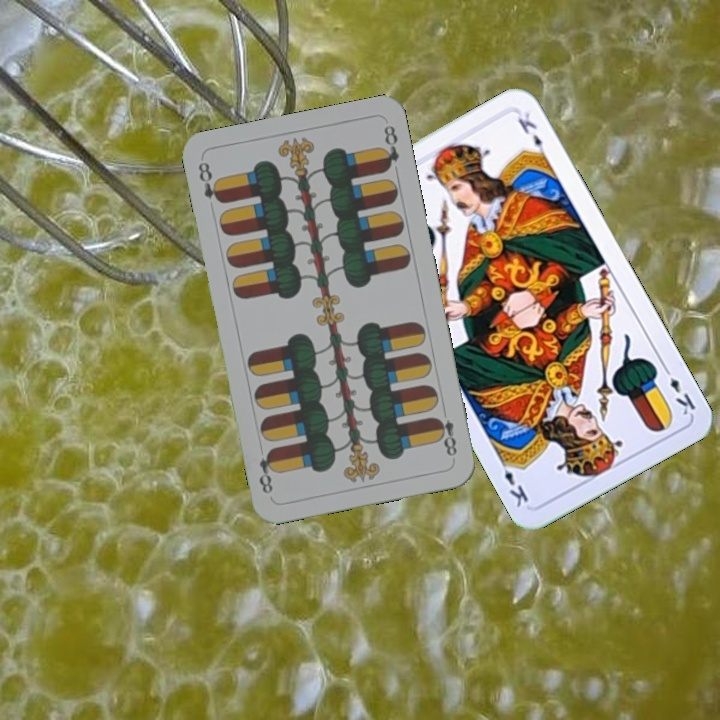E8: (194, 157, 225, 206), (431, 413, 460, 459)
EK: (659, 361, 699, 418)
